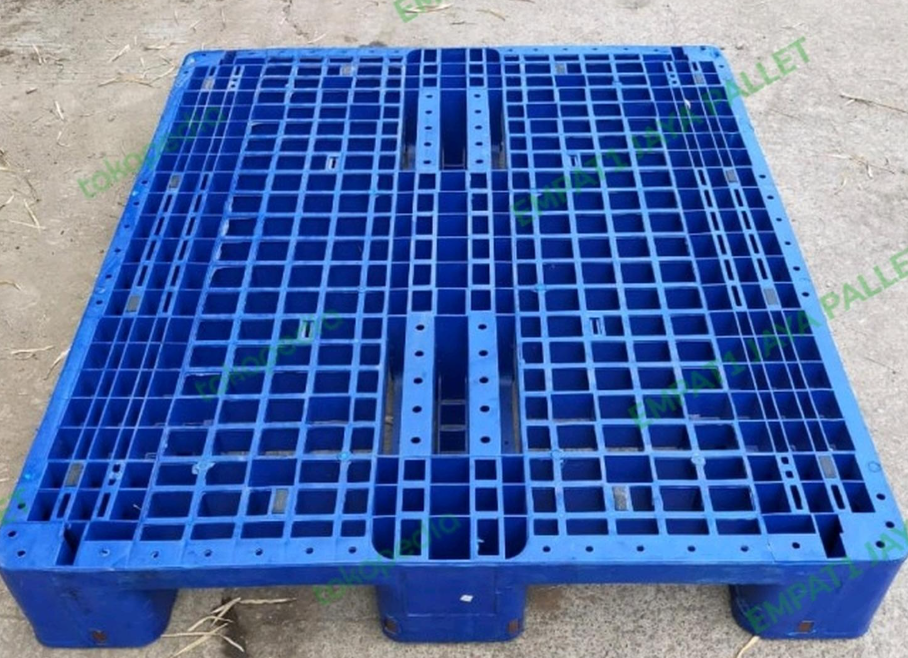block: (1, 562, 160, 654), (747, 555, 899, 643), (386, 554, 528, 640)
front: (5, 539, 903, 652)
hole pallet: (144, 568, 386, 644), (521, 582, 759, 643)
